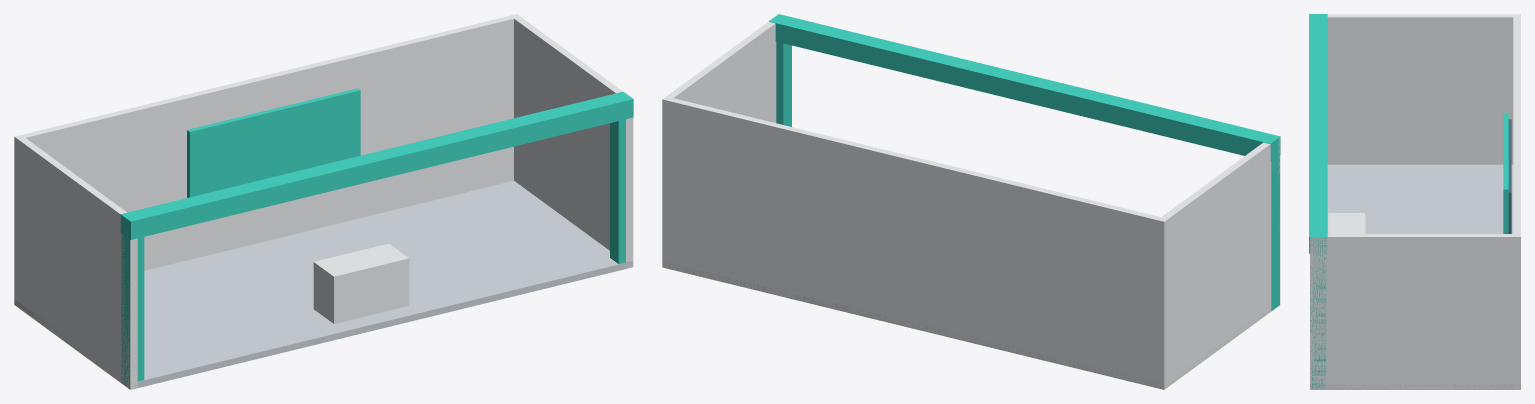
3 renders of one model, left to right at view 1: azimuth 30°, elevation 25°; view 2: azimuth 150°, elevation 25°; view 3: azimuth 270°, elevation 25°, orthographic. The views are drawn at different scales.
Parts seen in each view (by area): view 1: Exhibition Booth Concept; view 2: Exhibition Booth Concept; view 3: Exhibition Booth Concept.
Part boxes in pixels (x1=…): Exhibition Booth Concept: x1=14, y1=14, x2=633, y2=389; Exhibition Booth Concept: x1=662, y1=14, x2=1280, y2=389; Exhibition Booth Concept: x1=1309, y1=14, x2=1520, y2=389.
Size of the model in its own units: 10 by 3.2 by 4.02.
